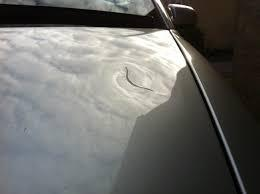bonnet-dent: (2, 17, 213, 174)
